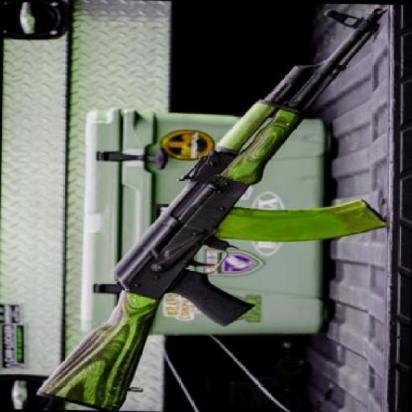Gun: (34, 7, 390, 410)
